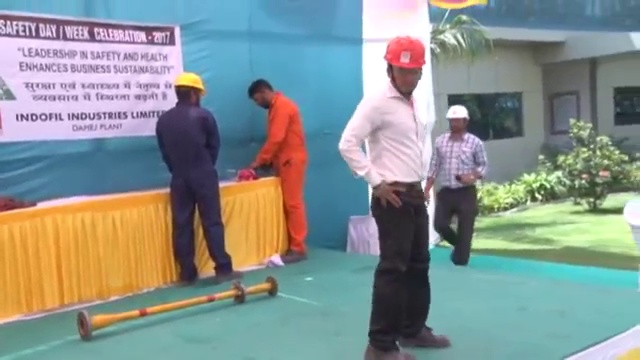helmet: (383, 33, 428, 70), (172, 72, 207, 97), (444, 103, 472, 121)
helmet_off: (244, 76, 282, 112)
helmet_on: (383, 31, 428, 96), (170, 69, 208, 109), (441, 101, 473, 142)
person: (339, 32, 451, 360), (154, 68, 247, 280), (244, 78, 311, 263), (426, 101, 488, 267)
